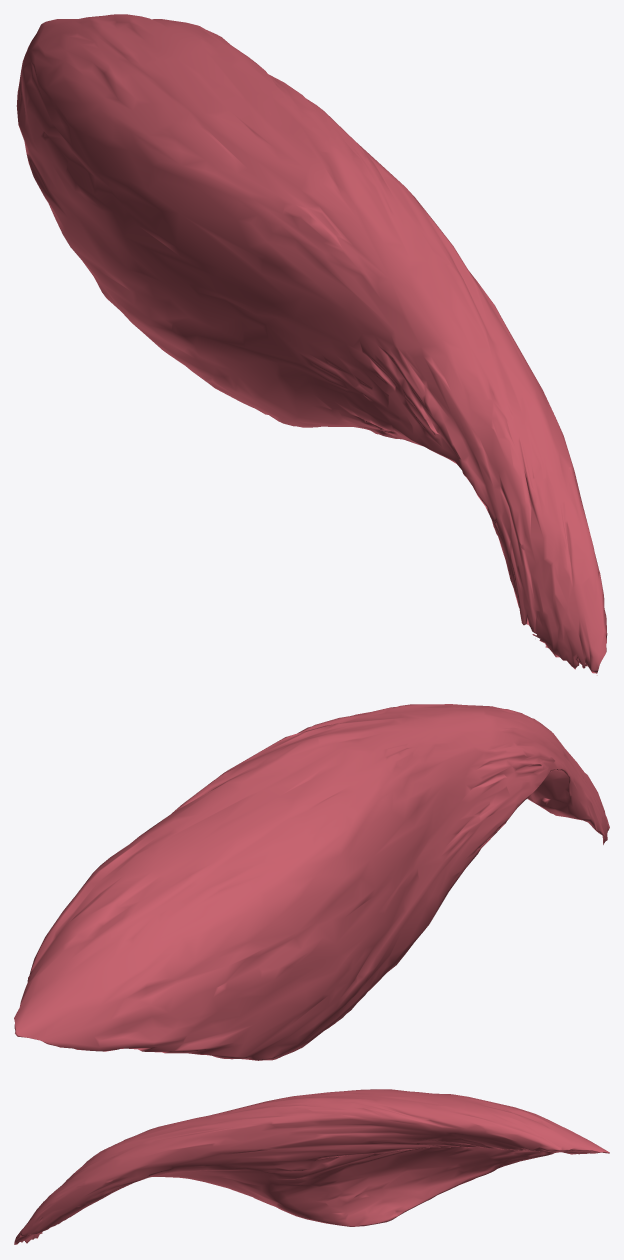
3 views of the same model, one above another, from view 1: azimuth 30°, elevation 25°; view 2: azimuth 150°, elevation 25°; view 3: azimuth 270°, elevation 25° (orthographic). The views are drawn at different scales.
Parts seen in each view (by area): view 1: 左侧腓肠肌内侧头; view 2: 左侧腓肠肌内侧头; view 3: 左侧腓肠肌内侧头.
Part boxes in pixels (<box>): 左侧腓肠肌内侧头: <box>16,14,607,675</box>; 左侧腓肠肌内侧头: <box>14,704,609,1060</box>; 左侧腓肠肌内侧头: <box>14,1089,609,1244</box>.
Size of the model in its own units: 0.0753 by 0.1267 by 0.4415.
